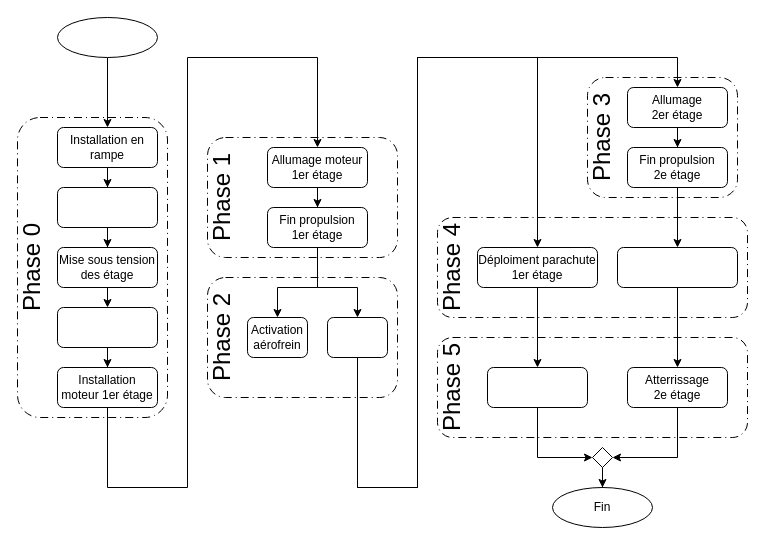
Image size: 765x545. Some labels were removed from this diagram. Here are the shapes that lost their labels. From the top down, the centre of each, then its label:
At pixel 107 37: "Début".
At pixel 107 207: "Installation moteur 2e étage".
At pixel 677 267: "Déploiment parachute 2e étage".
At pixel 107 327: "Mise à la verticale de la rampe".
At pixel 357 337: "Séparation étages".
At pixel 537 387: "Atterrissage 1er étage".
